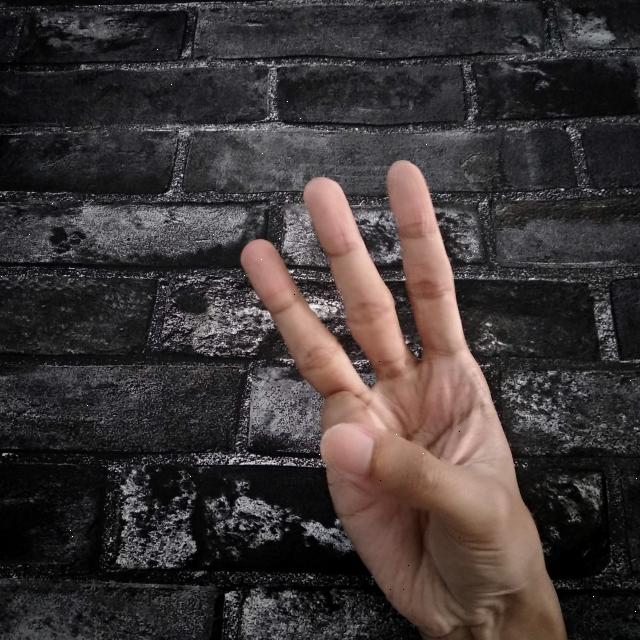W: (232, 149, 574, 640)
